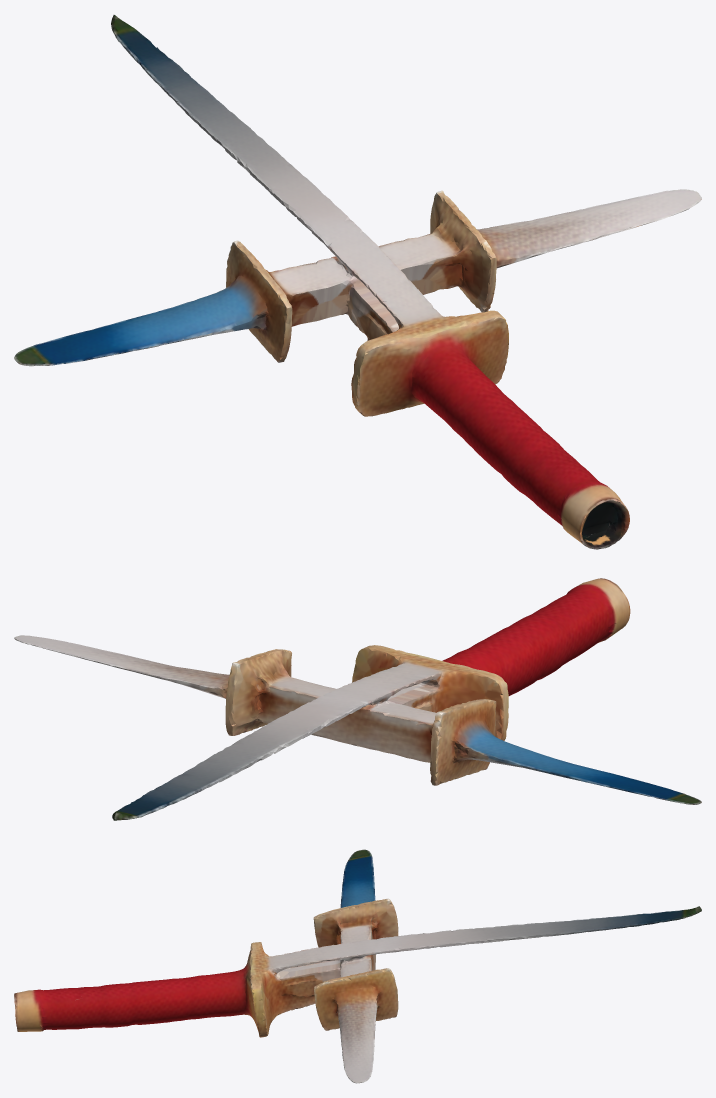
The model's file is dual_katana.glb.
3 views of the same model, one above another, from view 1: azimuth 30°, elevation 25°; view 2: azimuth 150°, elevation 25°; view 3: azimuth 270°, elevation 25° (orthographic). The views are drawn at different scales.
Visible parts, largest first — view 1: dual_katana; view 2: dual_katana; view 3: dual_katana.
Boxes of the visible parts, x1=… form: dual_katana: x1=14, y1=15, x2=701, y2=549; dual_katana: x1=14, y1=578, x2=701, y2=820; dual_katana: x1=14, y1=849, x2=701, y2=1083.
Size of the model in its own units: 1.51 by 0.373 by 1.89.
Materials: 1 (1 with a texture image).
